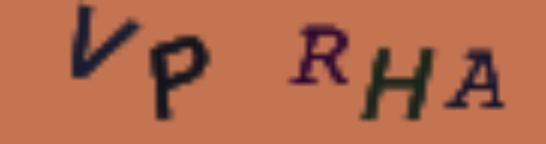A: (441, 42, 510, 111)
H: (360, 46, 435, 124)
P: (148, 32, 212, 122)
R: (292, 18, 354, 90)
V: (64, 3, 142, 83)
